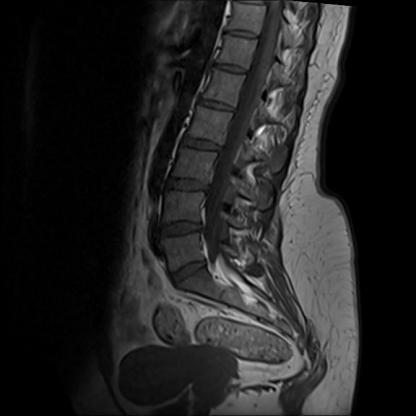Degenerative Disc Diseaserotation: (156, 218, 209, 239)
